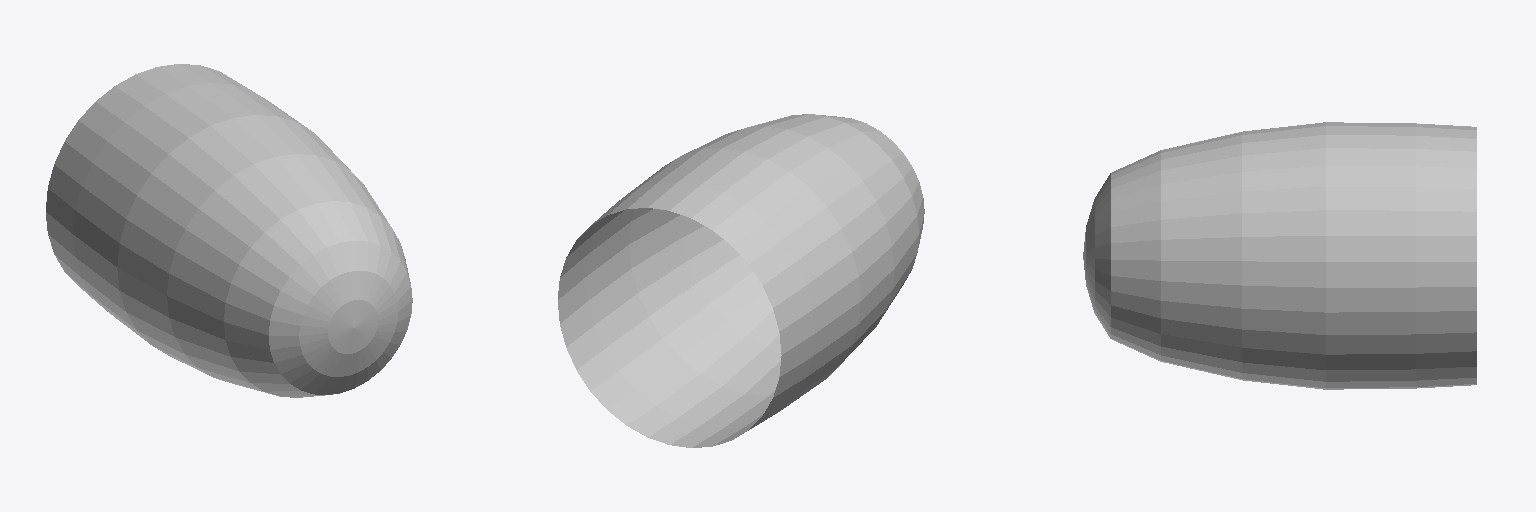
File: fireball_mesh.obj
The picture shows the model from 3 angles: view 1: azimuth 30°, elevation 25°; view 2: azimuth 150°, elevation 25°; view 3: azimuth 270°, elevation 25°; orthographic projection.
Visible parts, largest first — view 1: Sphere; view 2: Sphere; view 3: Sphere.
Boxes of the visible parts, box(x1,y1,x2,y2) form: Sphere: box(46, 64, 412, 397); Sphere: box(558, 114, 924, 447); Sphere: box(1083, 122, 1476, 389).
Bounding box in the file's own units: 1.79 × 1.79 × 2.63.